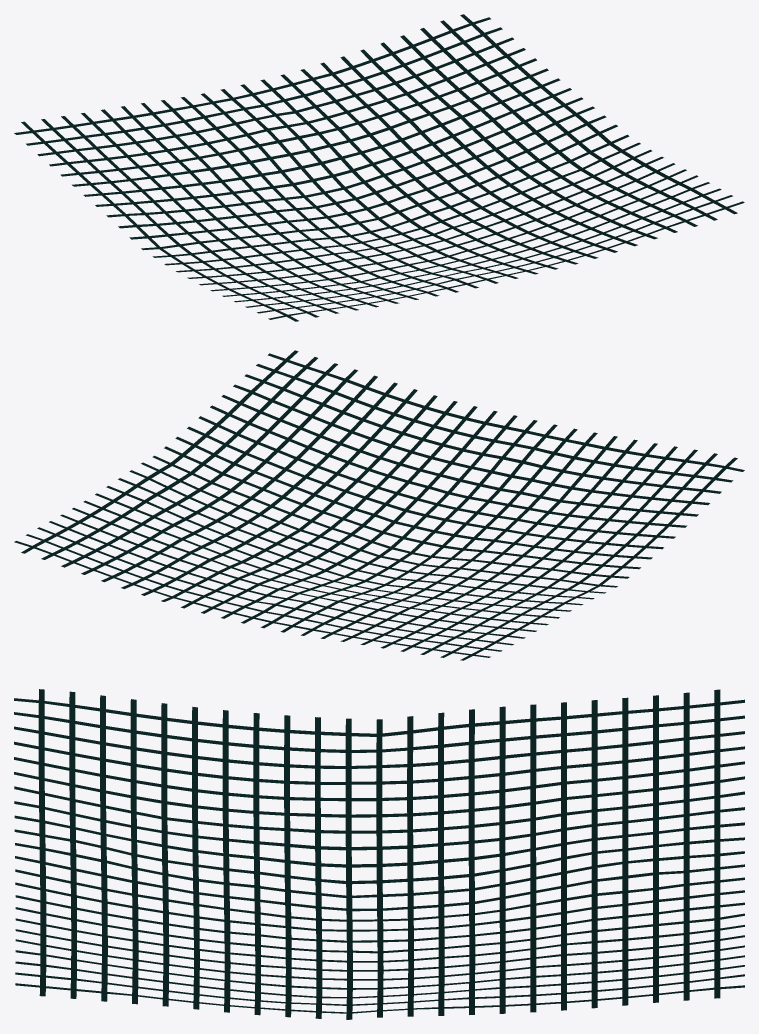
The model's file is Net.fbx.
3 views of the same model, one above another, from view 1: azimuth 30°, elevation 25°; view 2: azimuth 150°, elevation 25°; view 3: azimuth 270°, elevation 25° (orthographic). The views are drawn at different scales.
Parts seen in each view (by area): view 1: Net; view 2: Net; view 3: Net.
Part boxes in pixels (left/top/right/bottom): Net: left=14, top=14, right=744, bottom=321; Net: left=14, top=350, right=744, bottom=660; Net: left=14, top=689, right=744, bottom=1019.
Bounding box in the file's own units: 10.01 × 1.04 × 10.02.
